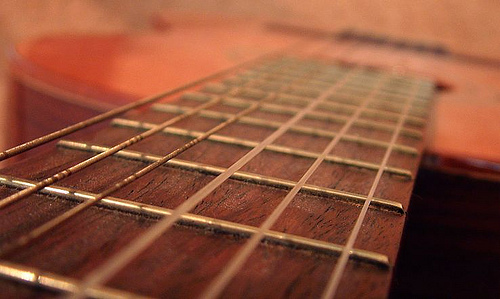guitar: (1, 1, 498, 299)
